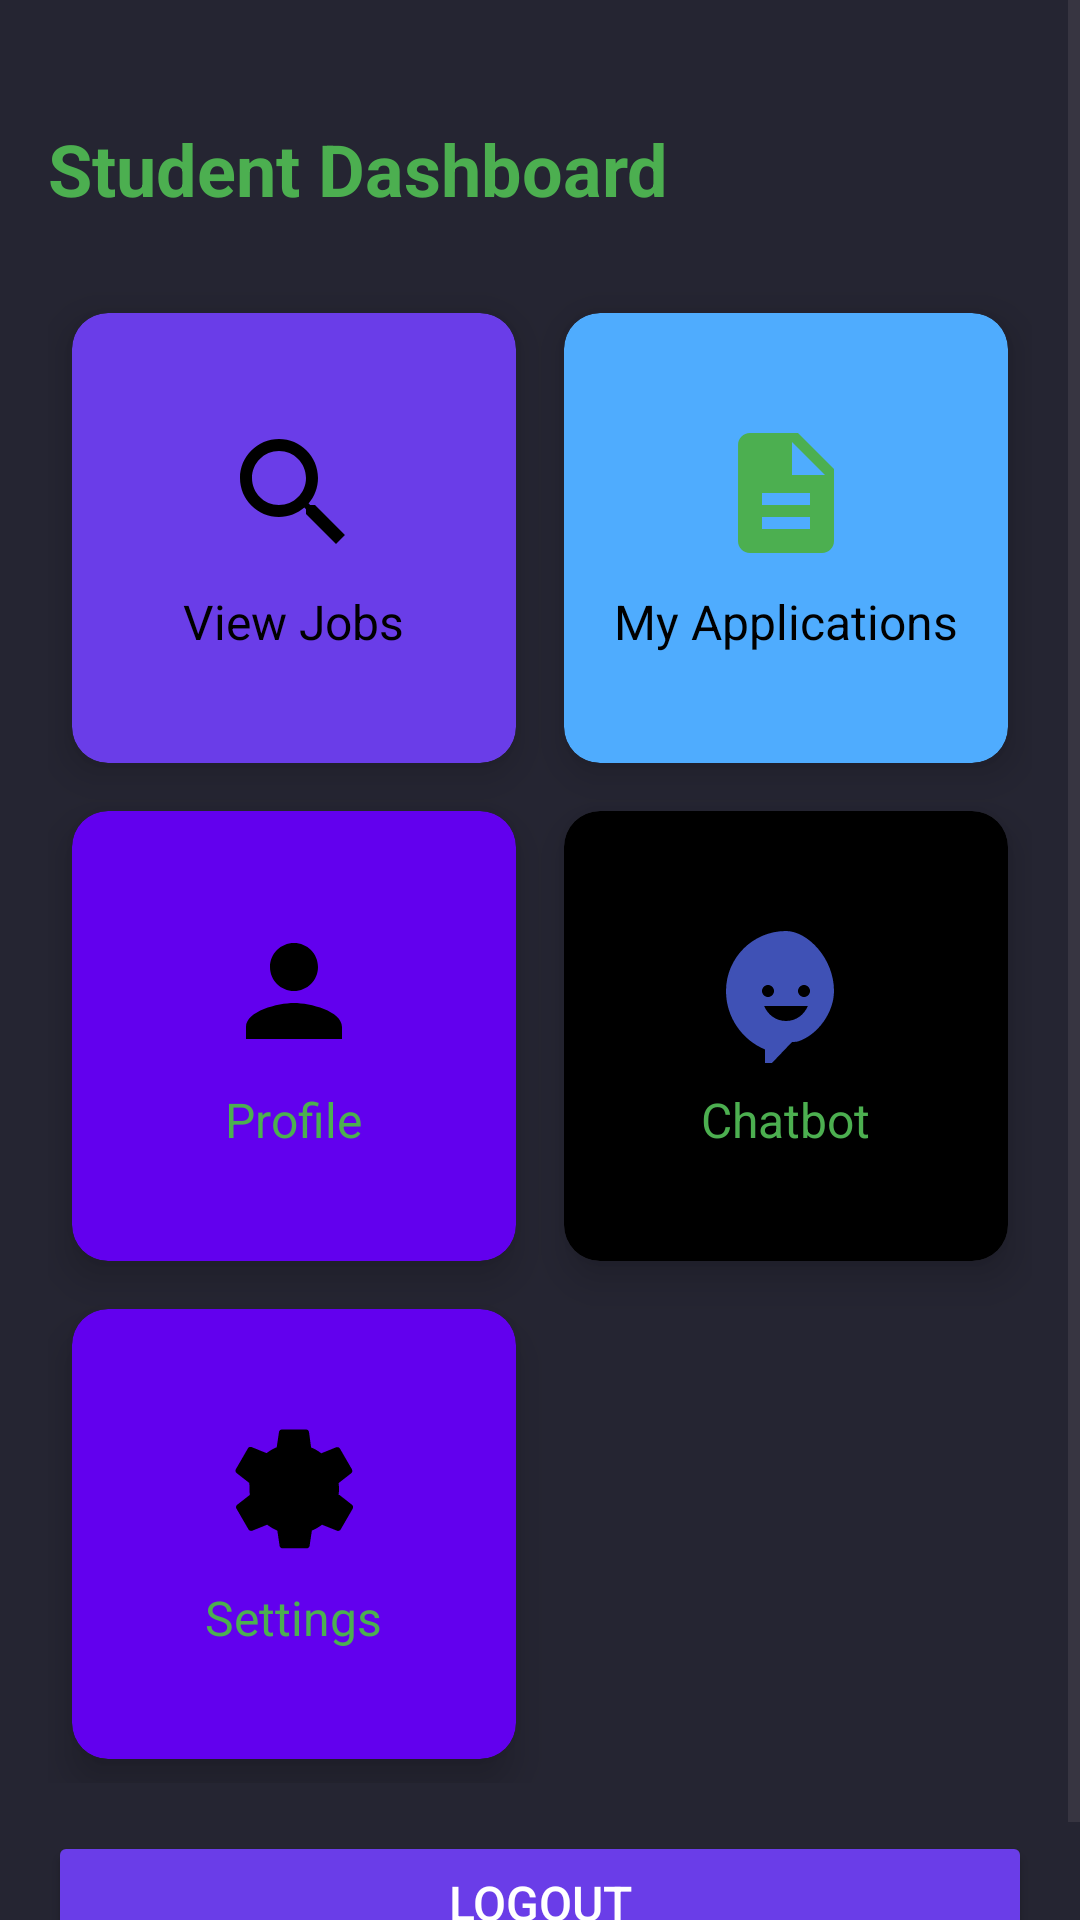

Icons on this 1080×1920 Android screen, each with the point to tap as (x=x, y=y):
search job: (x=292, y=491)
